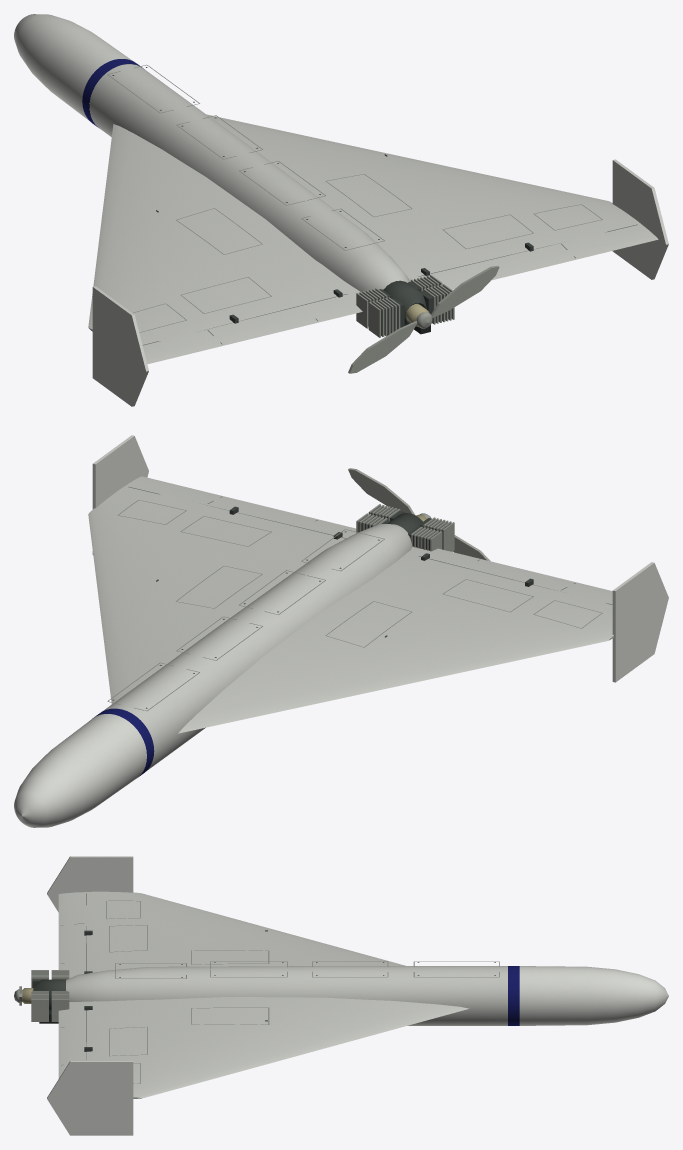
Rendered from shahed136.obj.
3 views of the same model, one above another, from view 1: azimuth 30°, elevation 25°; view 2: azimuth 150°, elevation 25°; view 3: azimuth 270°, elevation 25° (orthographic). The views are drawn at different scales.
Parts seen in each view (by area): view 1: delta_wing_top, fuselage, winglet, nose, propeller, cooling_rib, panel_line, cylinder_cover, engine_case, blue_band; view 2: delta_wing_top, fuselage, nose, winglet, panel_line, cooling_rib, propeller, blue_band, cylinder_cover; view 3: delta_wing_top, fuselage, winglet, nose, panel_line, cooling_rib, blue_band, engine_case.
Boxes of the visible parts, x1,y1,x2,y2 form: delta_wing_top: (88, 114, 658, 364); fuselage: (89, 64, 409, 311); winglet: (92, 159, 668, 406); nose: (14, 14, 135, 121); propeller: (348, 265, 499, 373); cooling_rib: (356, 275, 454, 337); panel_line: (107, 64, 602, 332); cylinder_cover: (360, 277, 452, 335); engine_case: (383, 280, 426, 325); blue_band: (82, 59, 143, 127); delta_wing_top: (88, 476, 613, 733); fuselage: (101, 524, 412, 771); nose: (14, 714, 146, 827); winglet: (92, 435, 668, 682); panel_line: (107, 500, 602, 711); cooling_rib: (356, 504, 454, 551); propeller: (348, 468, 490, 561); blue_band: (92, 708, 154, 777); cylinder_cover: (358, 506, 450, 550); delta_wing_top: (58, 891, 468, 1098); fuselage: (66, 966, 507, 1025); winglet: (47, 856, 133, 1135); nose: (519, 966, 668, 1025); panel_line: (106, 900, 499, 1083); cooling_rib: (31, 970, 69, 1021); blue_band: (508, 966, 519, 1025); engine_case: (33, 979, 65, 1011).
Bounding box in the file's own units: 5.03 × 0.84 × 6.76.
Materials: 1 (1 with a texture image).
